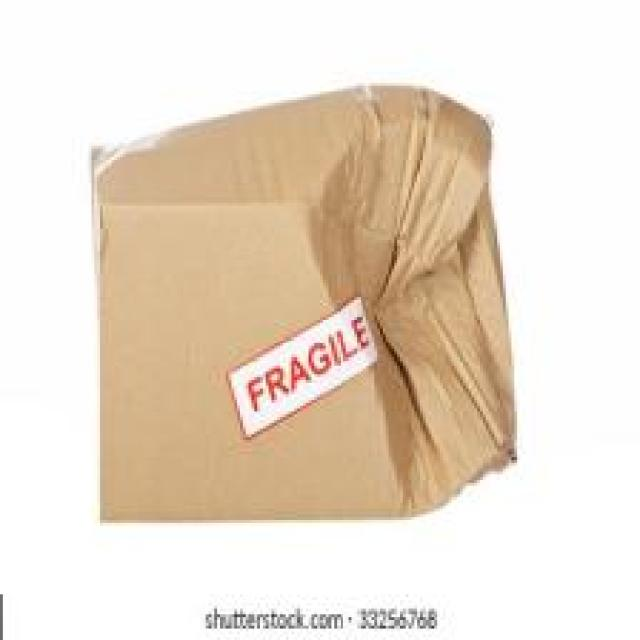box: (77, 97, 599, 528)
